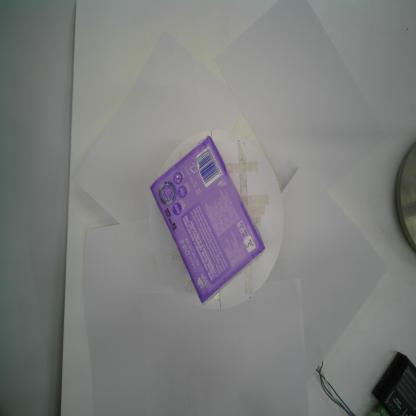Tissue: (148, 130, 267, 308)
